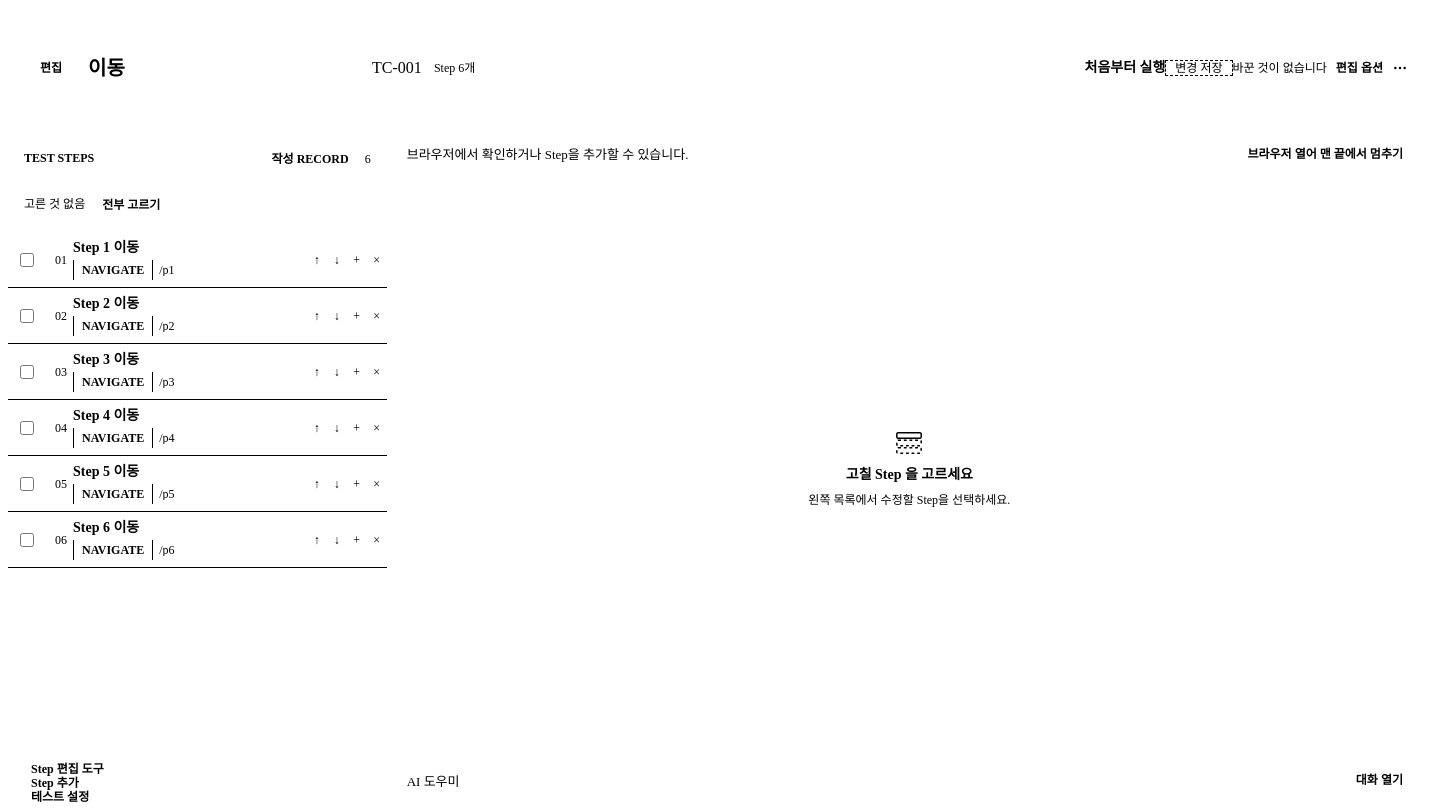
Test: 지우기는 확인을 거친다 (FR-302) › 확인 전에는 지워지지 않는다
The width and height of the screenshot is (1440, 810).
Expected: the button "Step 1 이동" is shown, [73,239,289,257]
Step 1. Click the button "×" in the row of "/p2" → point(377, 316), box [367,306,387,326]
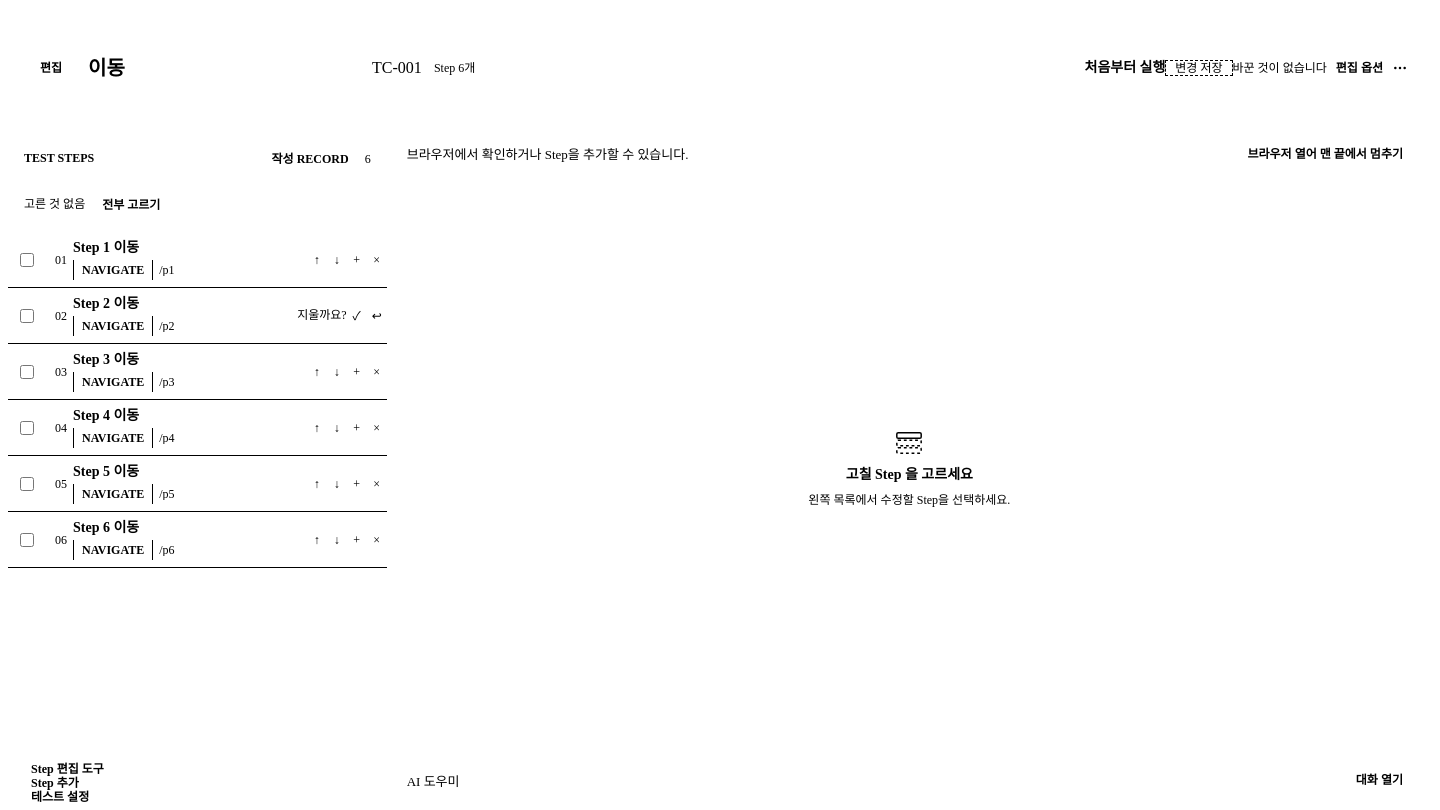
Expected: the text "지울까요?" is shown, [297,307,347,324]
